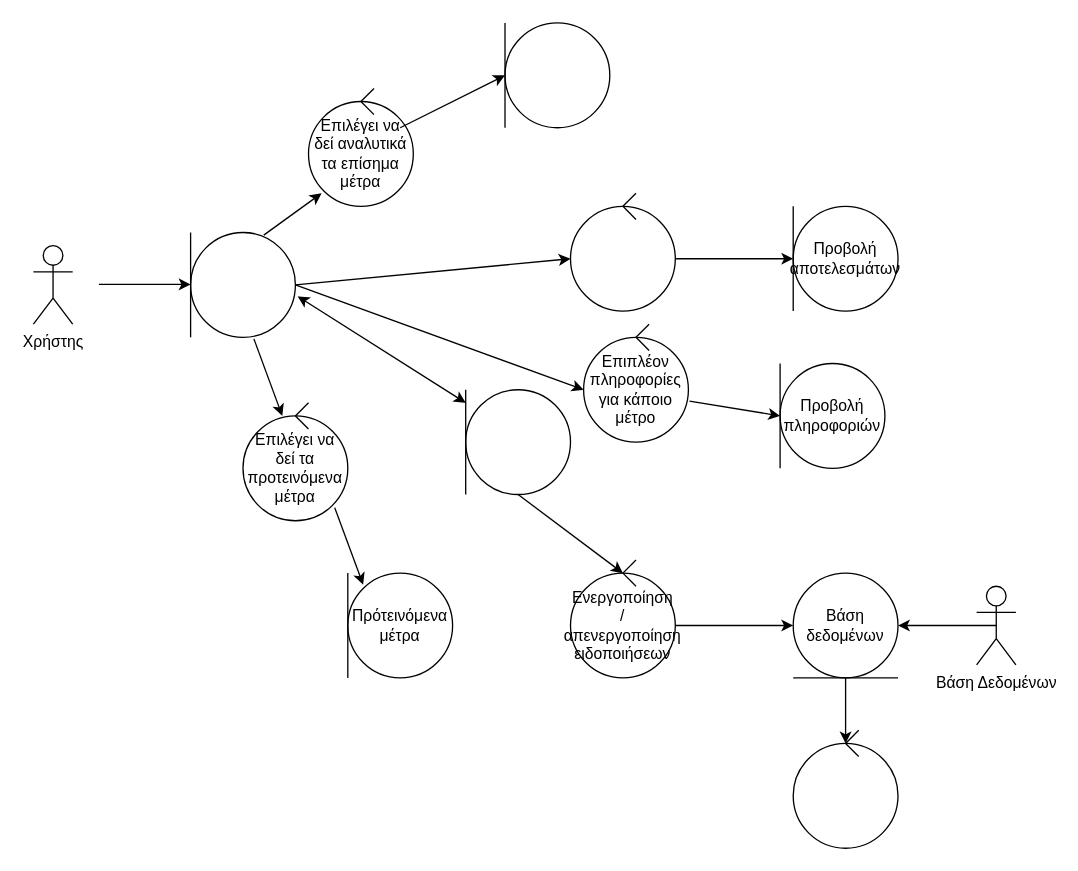
This 1078x871 diagram has some shape labels left out. The shapes that lost their labels are listed below. From the top down, each one's centre as x and y in pixels, then its label:
the point at 557,75: Επίσημη ιστοσελίδα κυβέρνησης
the point at 622,258: Αναζήτηση με βάση περιορισμό
the point at 242,284: Οθόνη μέτρων κυβέρνησης
the point at 517,441: Οθόνη ειδοποιήσεων
the point at 845,795: Ενήμέρωση για νέα μέτρα
